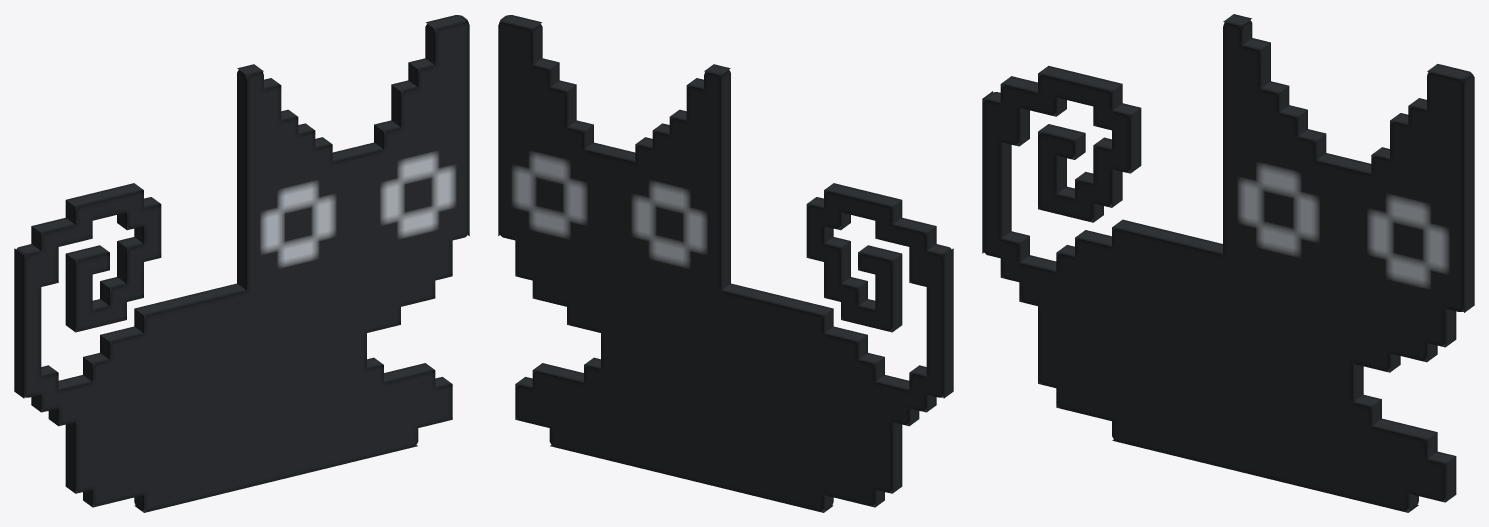
The model's file is cat3B.fbx.
3 renders of one model, left to right at view 1: azimuth 30°, elevation 25°; view 2: azimuth 150°, elevation 25°; view 3: azimuth 330°, elevation 25°, orthographic. The views are drawn at different scales.
Visible parts, largest first — view 1: generated; view 2: generated; view 3: generated.
Boxes of the visible parts, <box> form: generated: <box>14,15,469,512</box>; generated: <box>498,15,953,512</box>; generated: <box>982,14,1474,512</box>.
Bounding box in the file's own units: 260 × 230 × 10.
